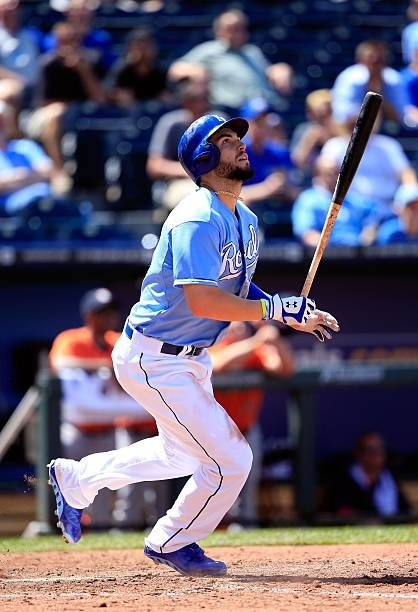bita: (291, 91, 380, 320)
